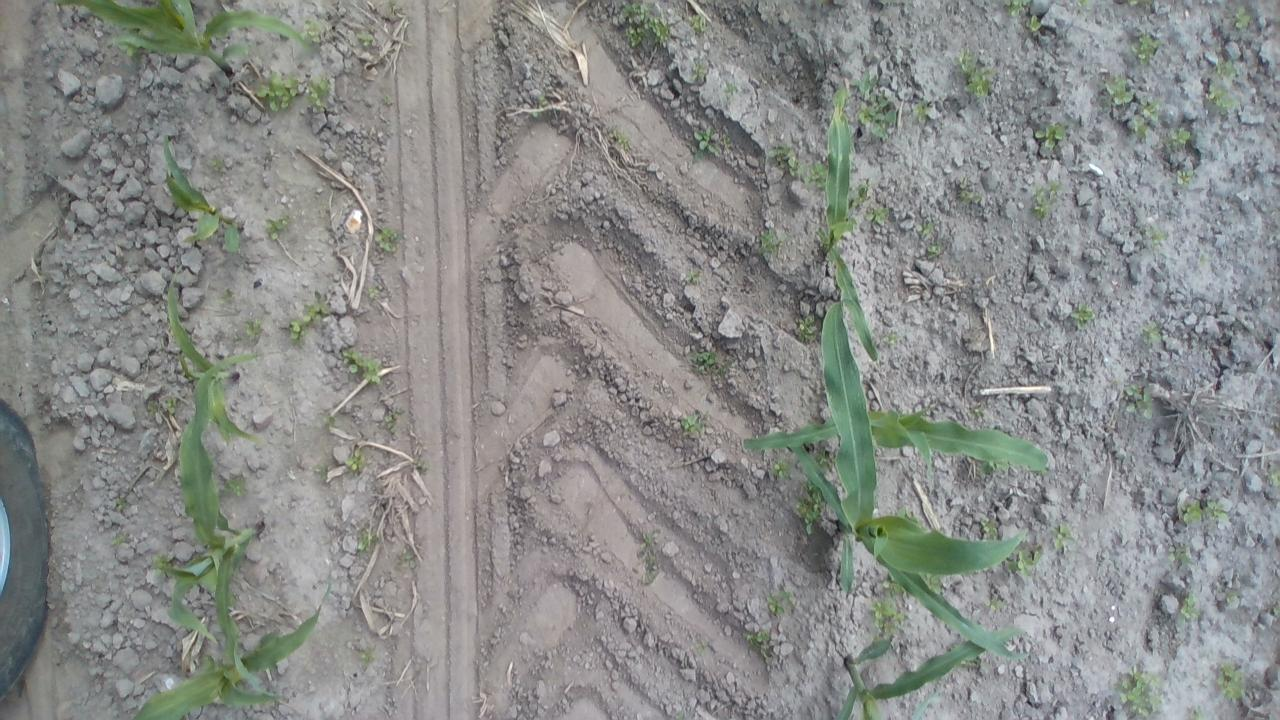Maize: (796, 300, 1030, 667), (132, 542, 320, 720), (164, 350, 260, 646), (745, 403, 1049, 478), (810, 90, 881, 362), (62, 0, 306, 73), (834, 628, 1026, 720), (165, 266, 262, 443), (160, 132, 241, 253)
Weeds: (851, 70, 898, 140), (256, 70, 331, 112), (766, 144, 826, 192), (866, 578, 910, 640), (1117, 668, 1166, 718), (622, 0, 670, 49), (957, 46, 999, 97), (792, 481, 825, 536), (339, 348, 383, 384), (688, 126, 732, 161), (1214, 658, 1246, 702), (1180, 496, 1227, 524), (1006, 542, 1044, 576), (1132, 96, 1159, 143), (1032, 179, 1062, 221), (1122, 383, 1154, 418), (298, 16, 324, 56), (640, 530, 659, 584), (1034, 120, 1068, 150), (1103, 74, 1133, 107), (302, 289, 330, 324), (689, 349, 726, 374), (1132, 33, 1160, 64), (766, 590, 798, 616), (1176, 590, 1202, 622), (1207, 86, 1240, 111), (1166, 542, 1194, 569), (1070, 303, 1097, 330), (756, 230, 784, 256), (342, 445, 368, 473), (264, 214, 292, 240), (374, 226, 400, 253), (1050, 522, 1074, 550), (175, 354, 198, 382), (384, 404, 405, 434), (1166, 126, 1192, 150), (918, 570, 944, 594), (796, 311, 816, 342), (150, 553, 173, 578), (286, 318, 306, 346), (1216, 59, 1240, 82), (608, 129, 633, 151), (848, 178, 866, 208), (222, 478, 250, 497), (768, 458, 791, 481), (865, 204, 889, 226), (1142, 322, 1162, 347), (910, 94, 929, 120), (743, 630, 770, 648), (680, 414, 706, 432), (957, 190, 982, 208), (356, 528, 373, 554), (1006, 0, 1032, 17), (899, 508, 922, 526), (1234, 8, 1254, 28), (117, 42, 141, 58), (814, 451, 832, 472), (982, 460, 1009, 474), (914, 221, 936, 238), (355, 30, 377, 47), (687, 13, 706, 32), (208, 158, 228, 176), (1151, 228, 1169, 247), (1174, 170, 1194, 187), (245, 318, 262, 338), (927, 243, 947, 259), (111, 496, 131, 512), (1024, 15, 1042, 32), (216, 287, 234, 304), (981, 519, 1000, 535), (1265, 464, 1280, 484), (690, 63, 704, 82), (984, 598, 1006, 610), (314, 463, 329, 480), (322, 413, 337, 430), (538, 94, 552, 112), (1190, 706, 1208, 720), (722, 81, 738, 96), (686, 269, 703, 283), (973, 406, 992, 418), (399, 548, 415, 562), (111, 534, 129, 546), (361, 650, 374, 665), (162, 398, 178, 410), (1226, 591, 1240, 603), (882, 334, 898, 344), (1075, 0, 1090, 8), (368, 287, 379, 297), (530, 111, 541, 120), (1127, 0, 1140, 7), (1273, 607, 1280, 614)
